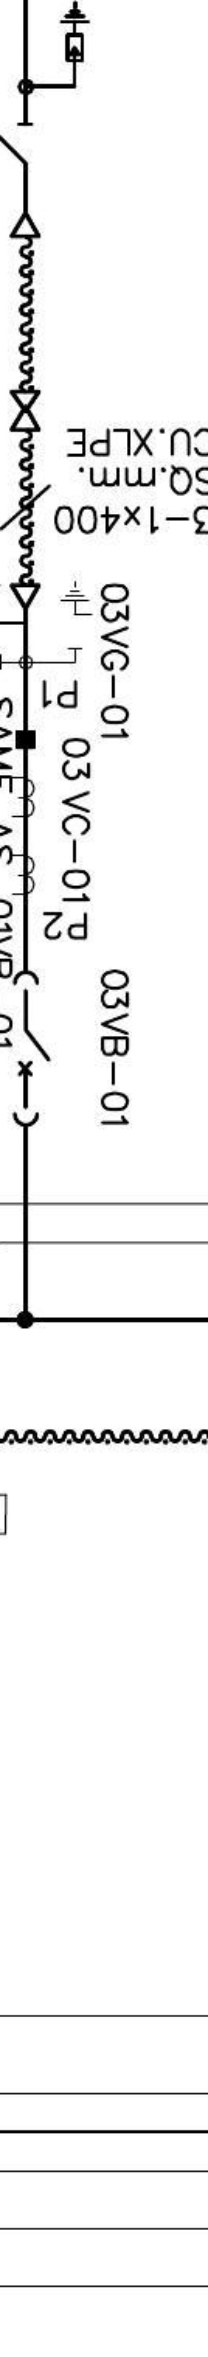22_breaker: (11, 970, 53, 1129)
22_gs: (59, 580, 95, 652)
terminator_single: (8, 212, 42, 241)
terminator_splicing_kits: (9, 389, 42, 433)
